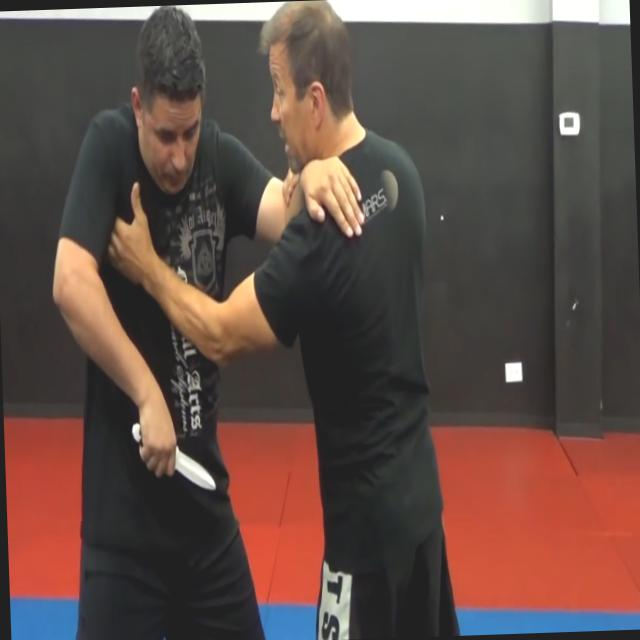knife: (127, 412, 220, 500)
